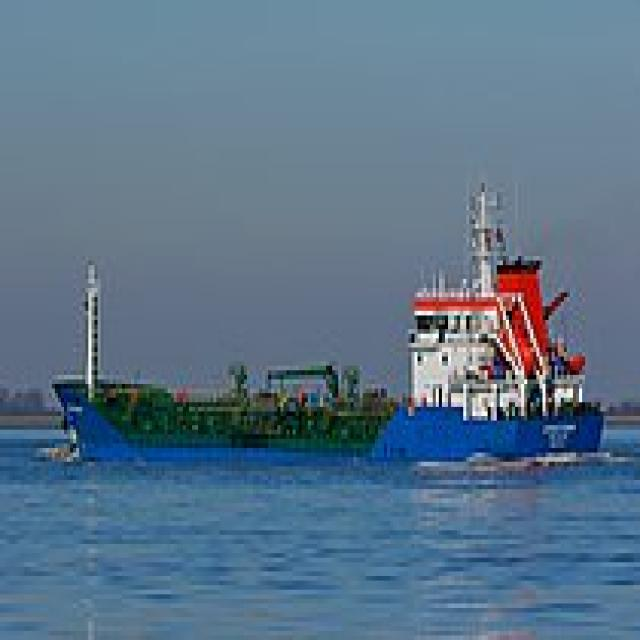Tanker: (46, 183, 600, 457)
